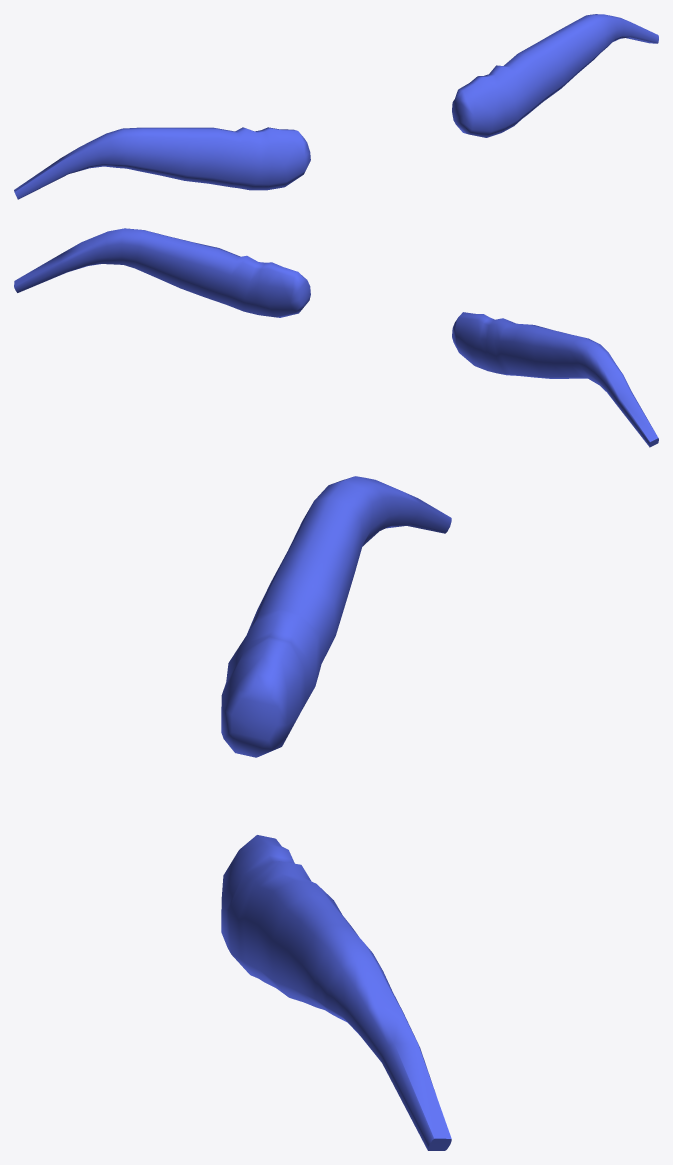
File: Eyebrows_09_03.fbx
3 views of the same model, one above another, from view 1: azimuth 30°, elevation 25°; view 2: azimuth 150°, elevation 25°; view 3: azimuth 270°, elevation 25° (orthographic). The views are drawn at different scales.
Parts seen in each view (by area): view 1: Eyebrows_09_03; view 2: Eyebrows_09_03; view 3: Eyebrows_09_03.
Part boxes in pixels (x1,y1,x2,y2): Eyebrows_09_03: (14,14,658,199); Eyebrows_09_03: (14,228,658,447); Eyebrows_09_03: (221,476,451,1150).
Size of the model in its own units: 19.2 by 2.07 by 2.98.
